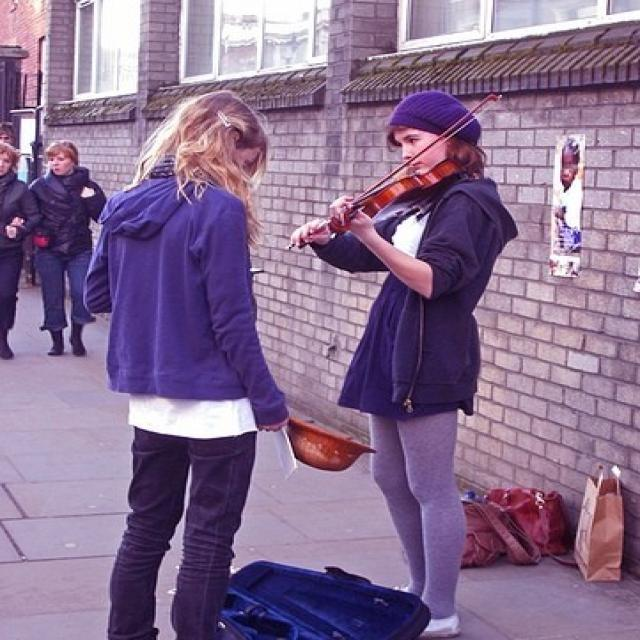violin: (333, 160, 468, 230)
